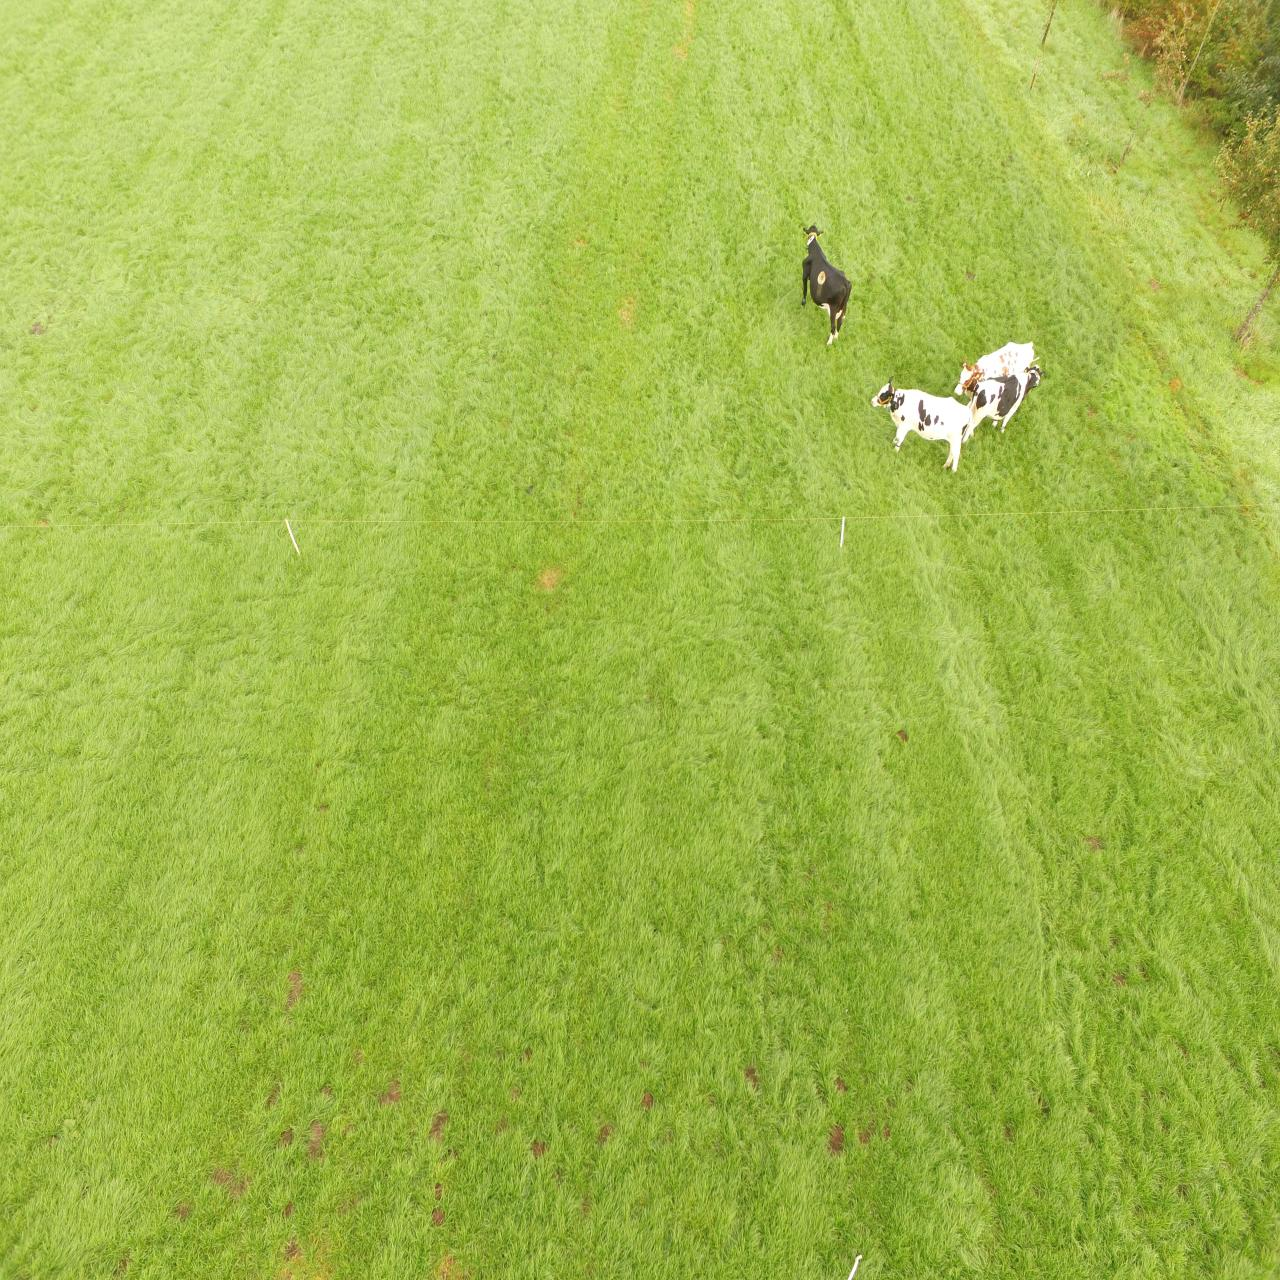cow: (869, 381, 972, 476), (802, 222, 851, 342), (961, 365, 1040, 431), (954, 340, 1039, 392)
